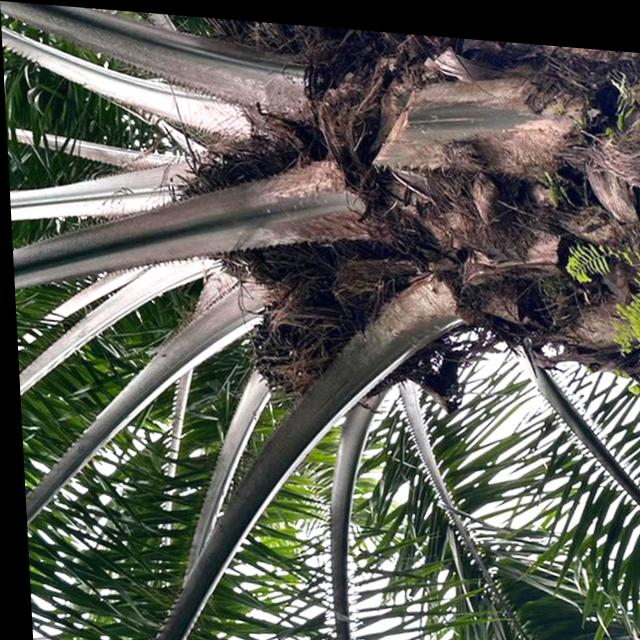unripe: (229, 280, 366, 409)
